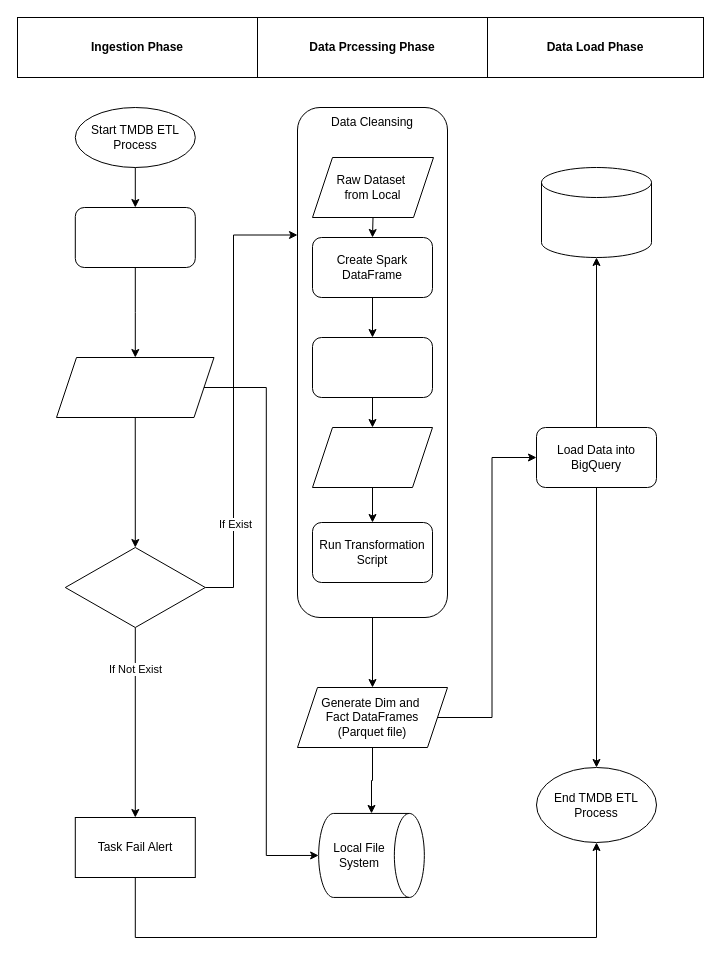
The diagram is 721 pixels wide and 963 high, and some of its shapes have lost their labels. The box of each missing label's shape, as (x1, y1, x2, y2) in pixels:
Check if Raw Dataset Exists: (64, 546, 205, 628)
Cleaned Dataset: (312, 426, 432, 488)
Data Warehouse (Big Query): (540, 166, 652, 258)
Download Raw Dataset: (74, 206, 195, 268)
Load Raw Dataset to Local Storage: (56, 356, 214, 418)
Run Cleansing Script: (312, 336, 432, 398)
